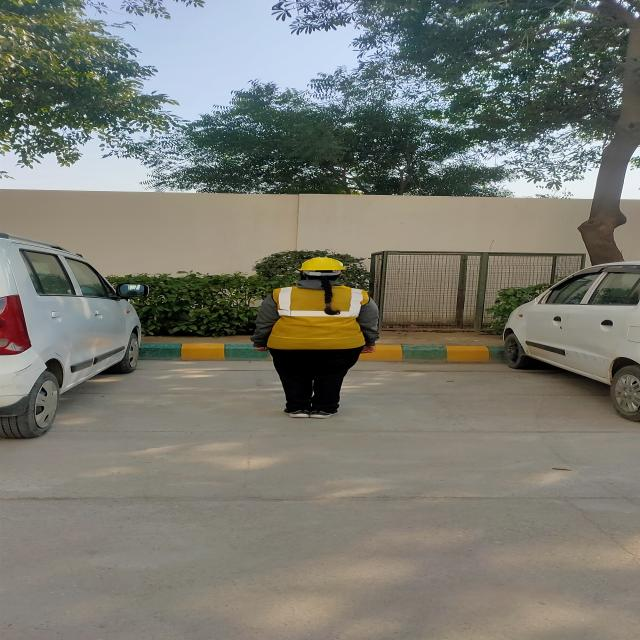safe: (251, 258, 378, 417)
